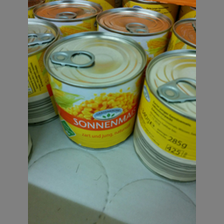corn: (42, 31, 146, 150), (131, 48, 195, 183)
